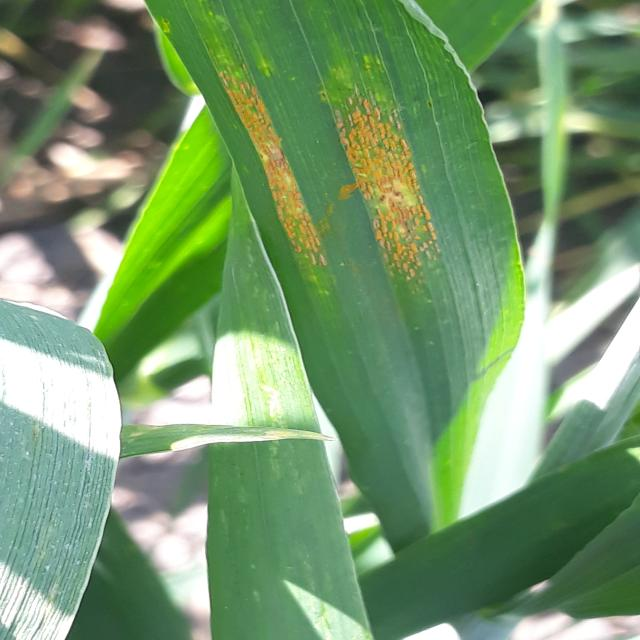yellow_rust: (116, 14, 554, 468)
